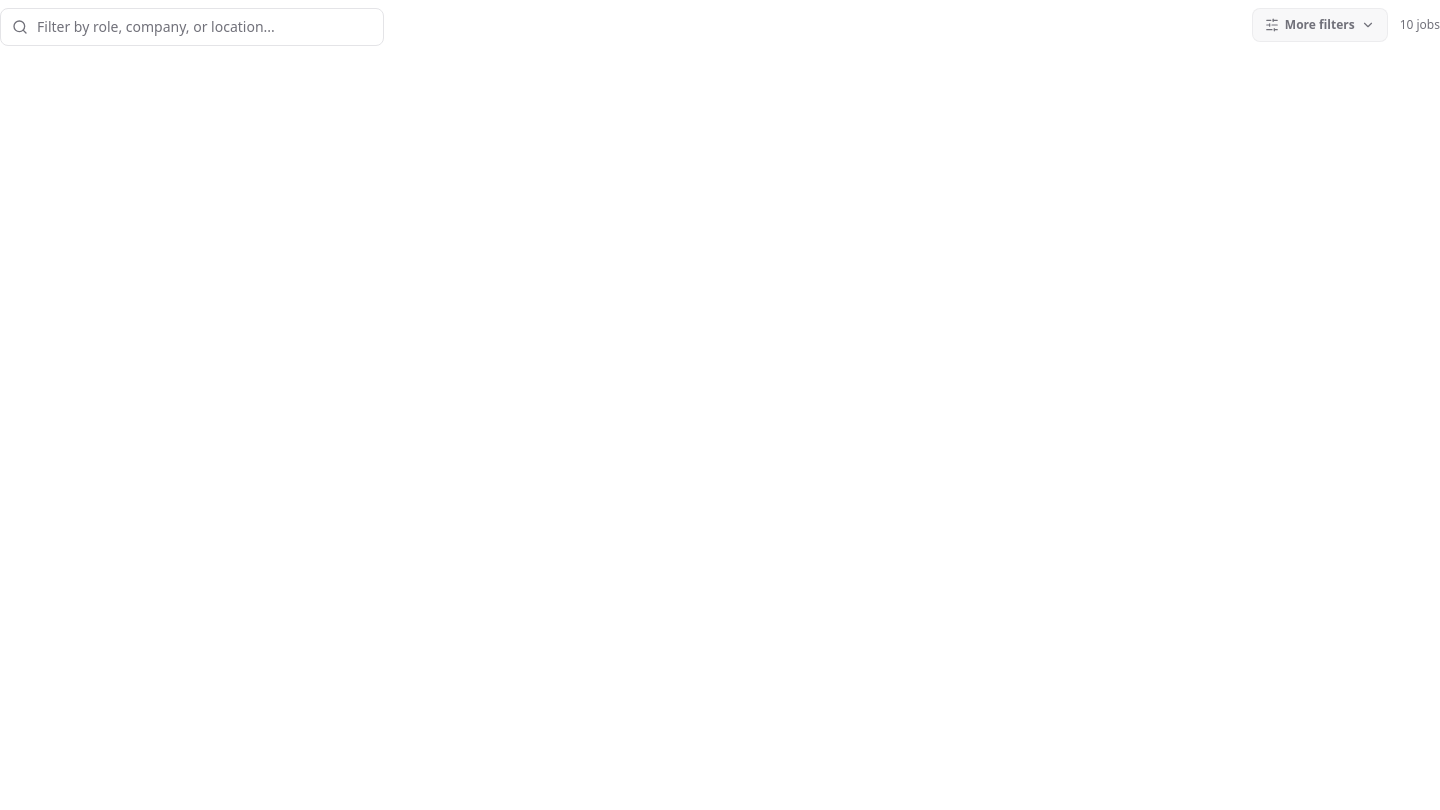
it: JobFilters component › closes the drawer with the Done button
Later steps or results of the test are not shown.
Click the button "More filters". click: (1320, 25)
box: x1=1252 y1=8 x2=1388 y2=42
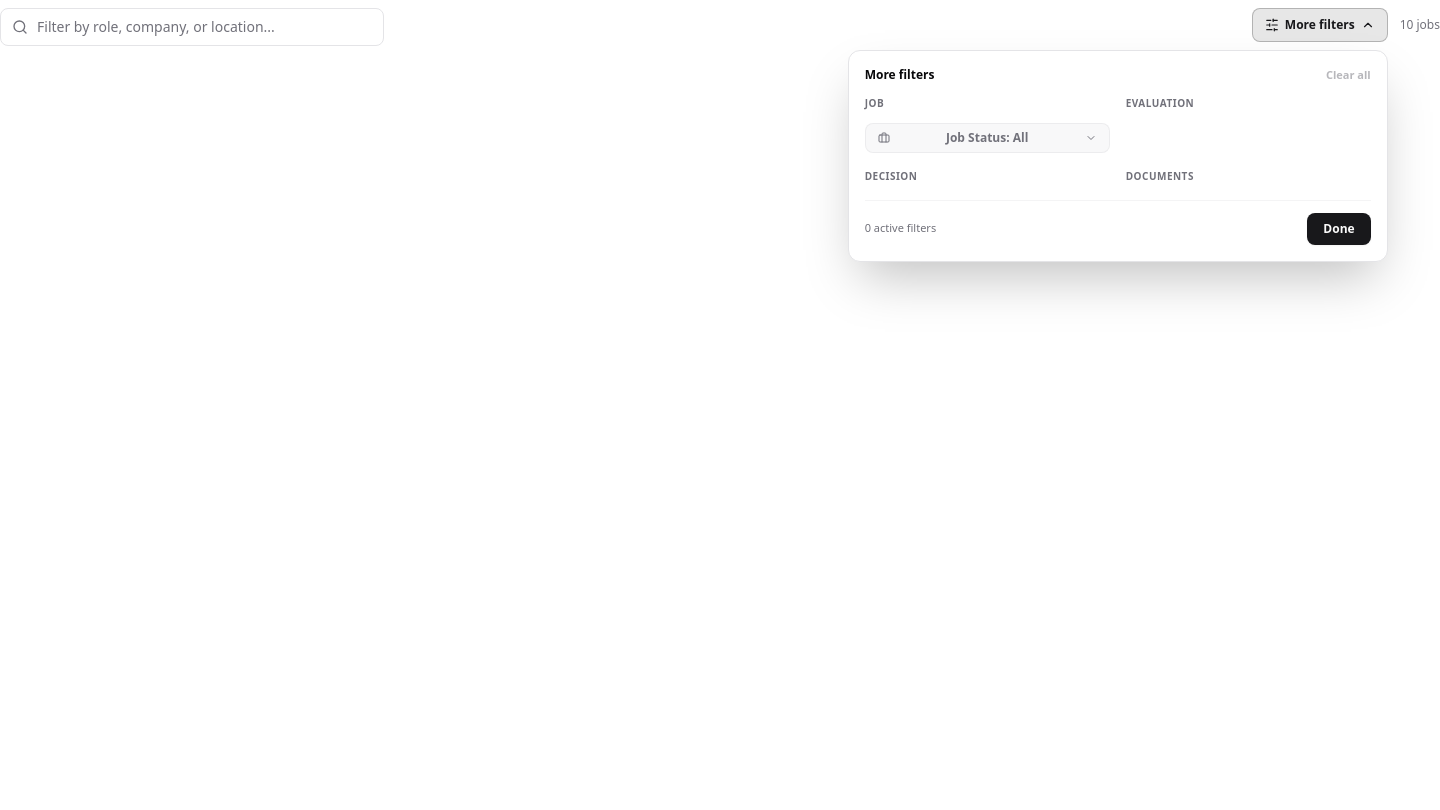
Expected: the dialog "filters" is shown, x1=848 y1=50 x2=1388 y2=262
